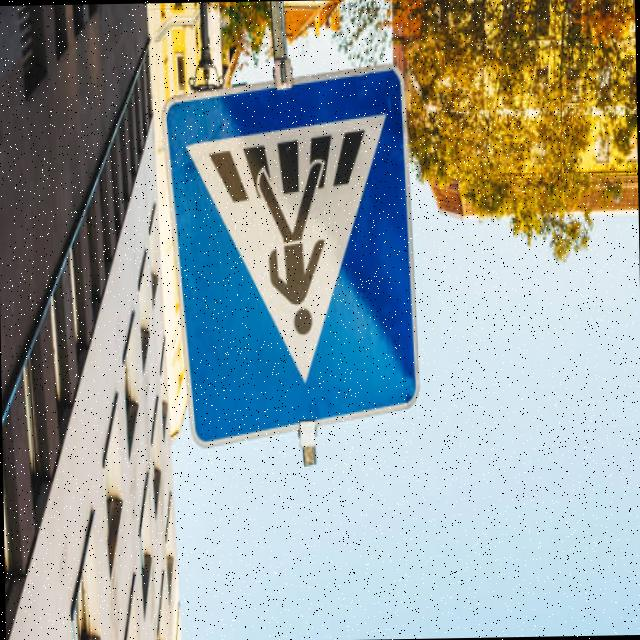crosswalk: (162, 61, 426, 456)
